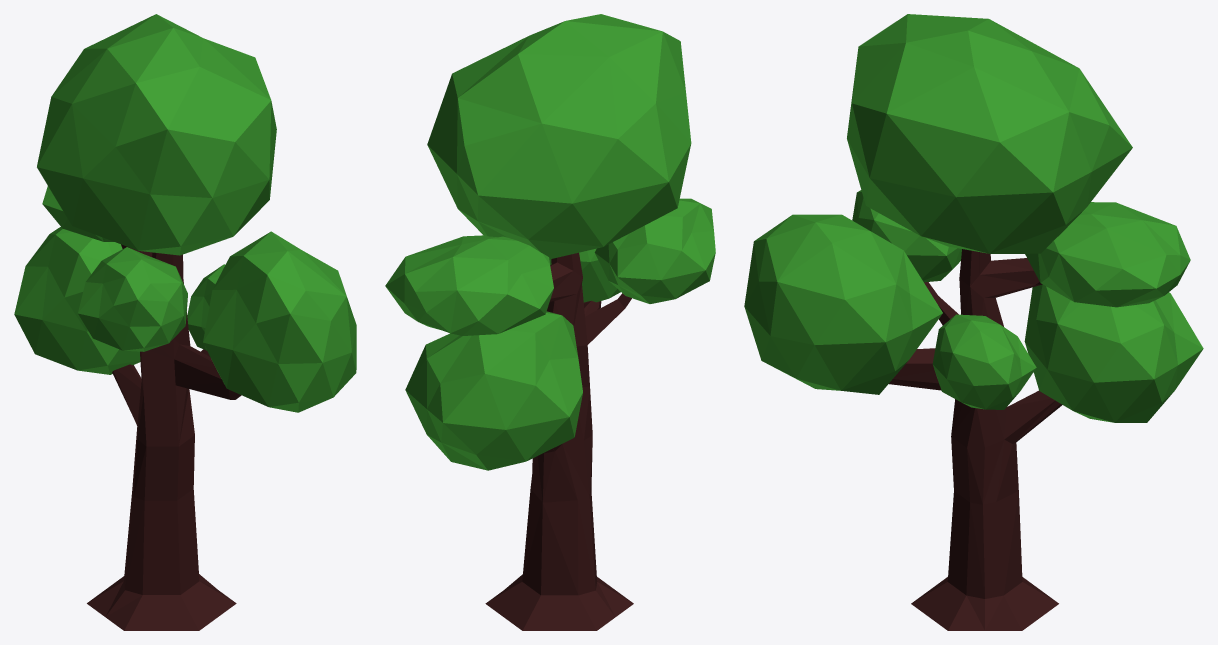
The model's file is tree_5.fbx.
3 views of the same model, side by side, from view 1: azimuth 30°, elevation 25°; view 2: azimuth 150°, elevation 25°; view 3: azimuth 270°, elevation 25° (orthographic).
Parts seen in each view (by area): view 1: 円柱.004, 円柱.003; view 2: 円柱.004, 円柱.003; view 3: 円柱.004, 円柱.003.
Part boxes in pixels (<box>): 円柱.004: <box>14,14,356,412</box>; 円柱.003: <box>87,244,241,630</box>; 円柱.004: <box>385,14,715,470</box>; 円柱.003: <box>485,252,633,630</box>; 円柱.004: <box>744,14,1203,422</box>; 円柱.003: <box>889,249,1062,630</box>.
Size of the model in its own units: 656 by 1573 by 1139.
